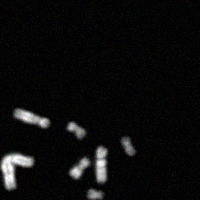chromosome: (0, 153, 33, 190), (13, 108, 48, 129), (96, 146, 107, 183), (70, 158, 88, 179), (66, 123, 85, 137), (122, 136, 136, 155), (86, 188, 102, 199)
